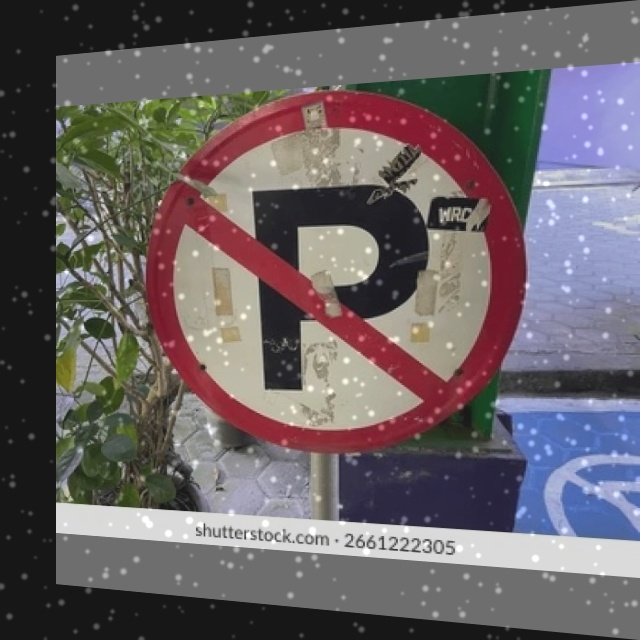No_Parking: (150, 77, 518, 448)
